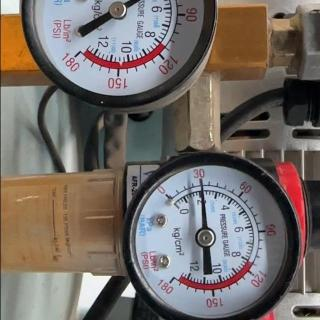gauge: (122, 152, 310, 320), (2, 1, 222, 115), (60, 38, 92, 68), (194, 227, 217, 249), (156, 185, 178, 207), (108, 0, 128, 20), (161, 272, 181, 290), (197, 175, 205, 185)
